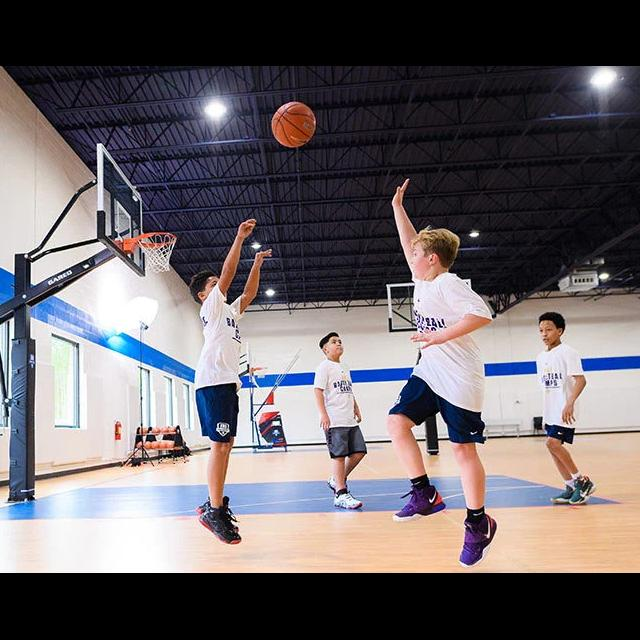basketball: (270, 100, 314, 146)
hoop: (137, 230, 175, 276)
